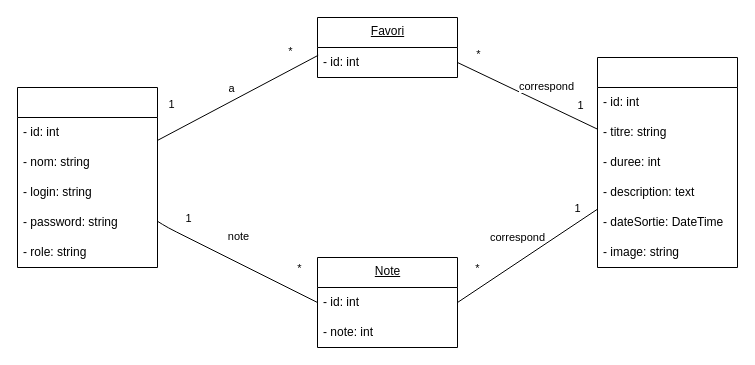
The diagram is 755 pixels wide and 365 high, and some of its shapes have lost their labels. The shapes that lost their labels are listed below. From the top down, each one's box as (x1, y1, x2, y2) in pixels, then its label:
(16, 86, 158, 268): User
(596, 56, 738, 268): Film
